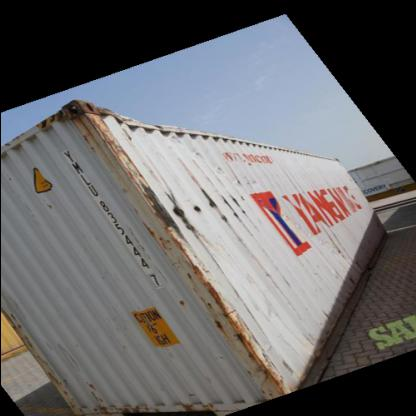Damage: (169, 244, 281, 400), (62, 95, 180, 150), (137, 176, 251, 228), (320, 216, 366, 276)
